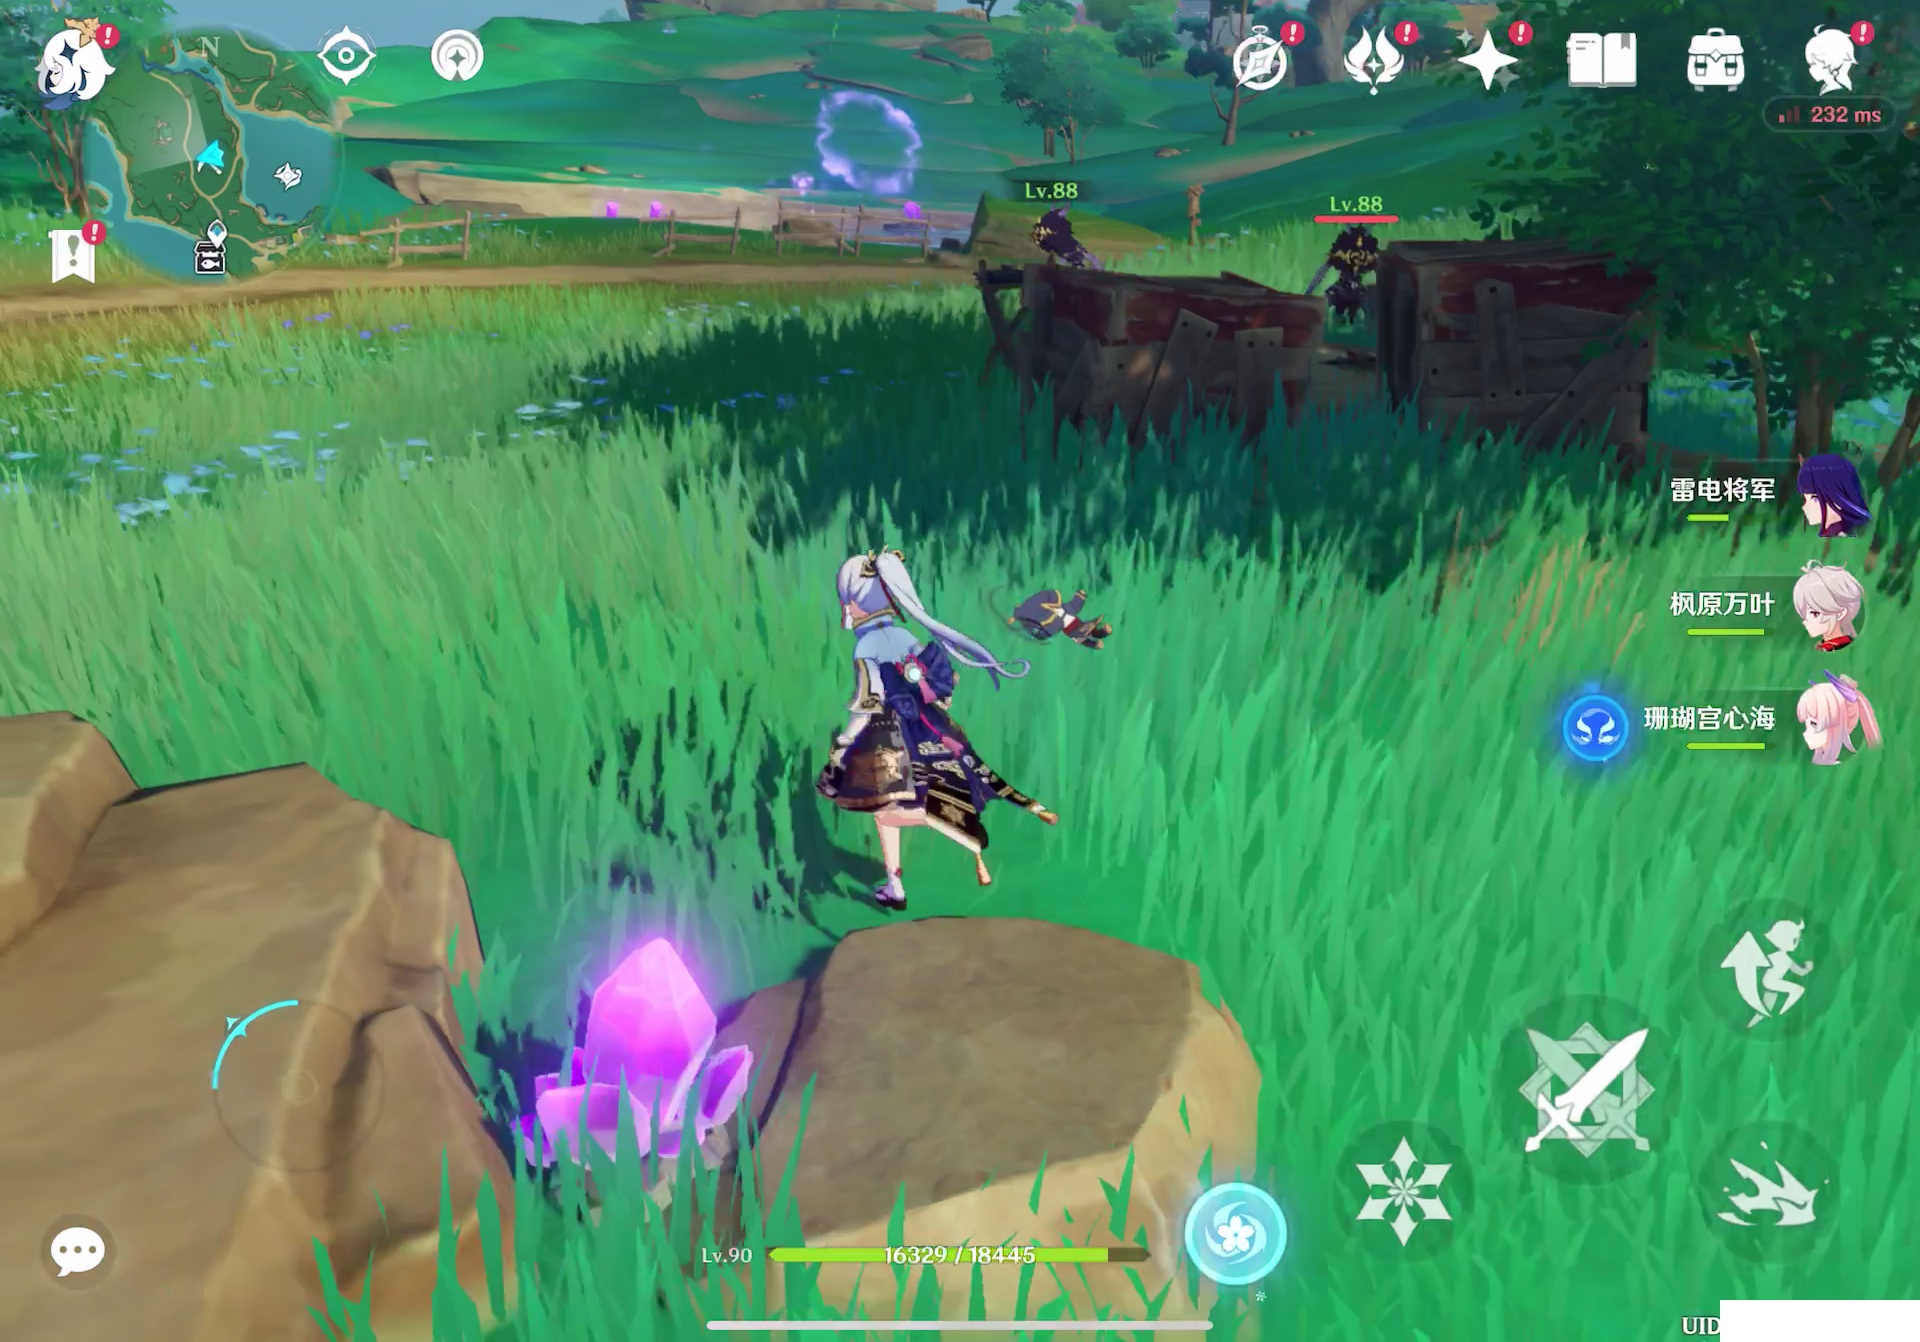丘丘人: (1312, 225, 1373, 330), (1018, 213, 1115, 271)
神里绫龟: (813, 553, 1002, 893)
紫矿石: (495, 934, 760, 1163)
